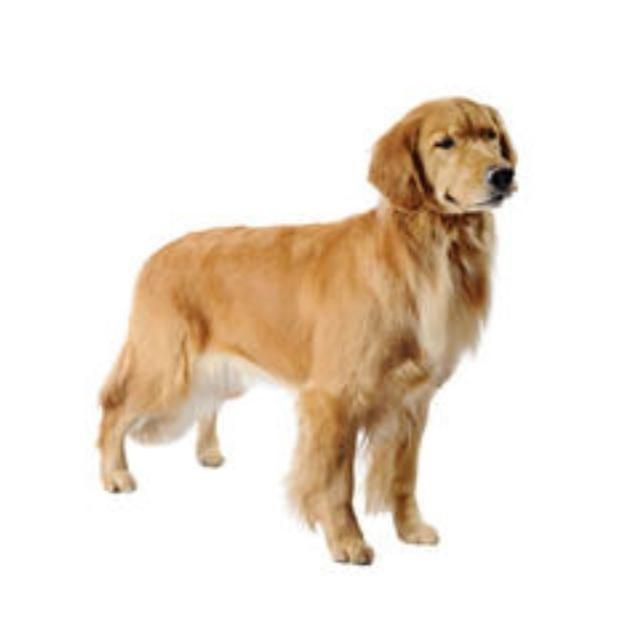dog: (69, 86, 537, 572)
